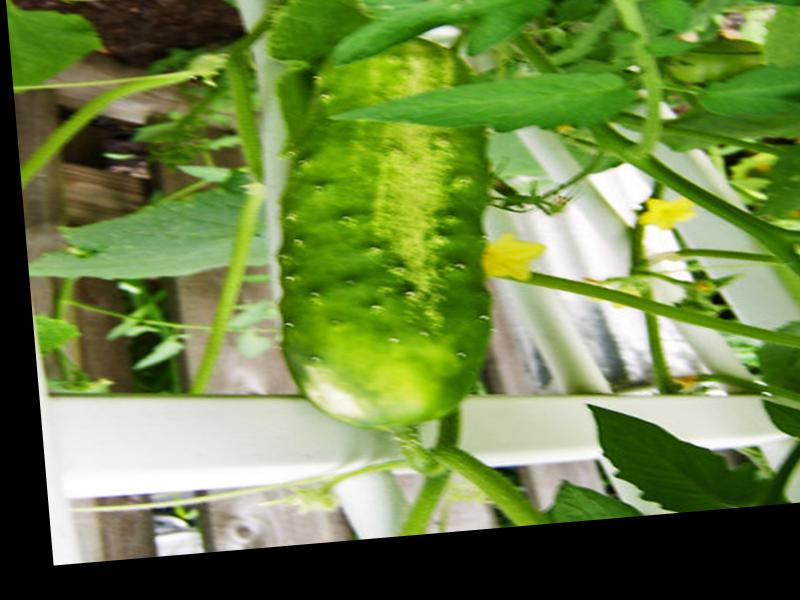Cucumber: (260, 37, 500, 437)
